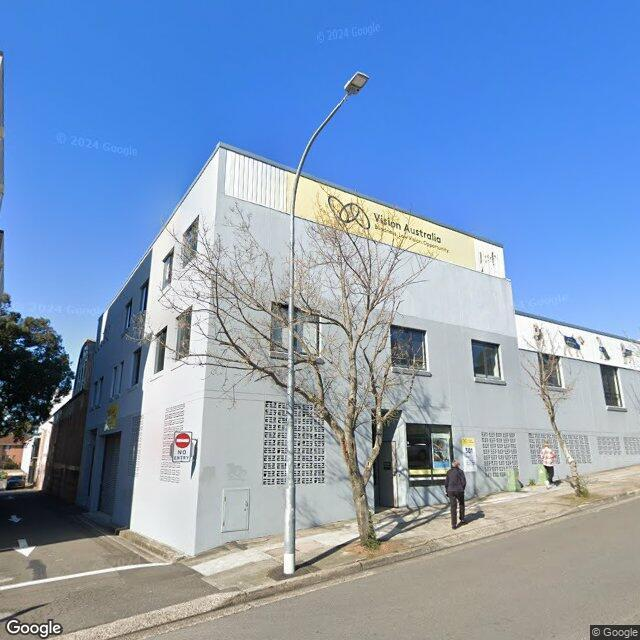steel-pole: (283, 244, 294, 576)
streetlight: (290, 72, 371, 245)
